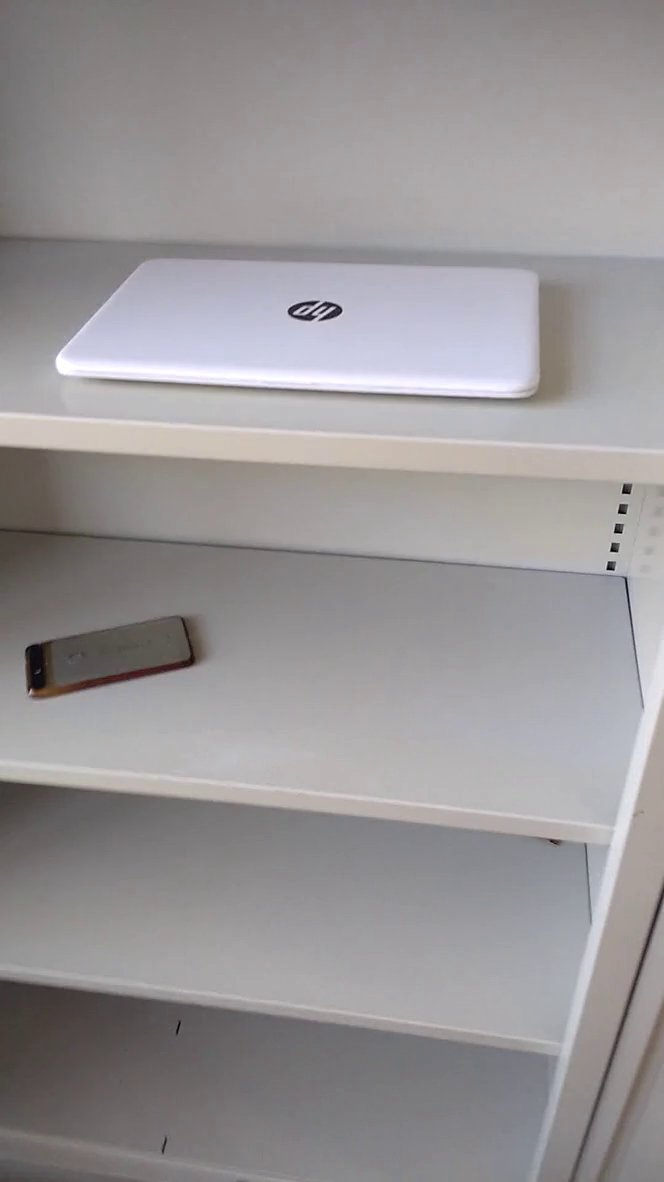laptop: (38, 240, 588, 437)
phone: (12, 596, 208, 713)
